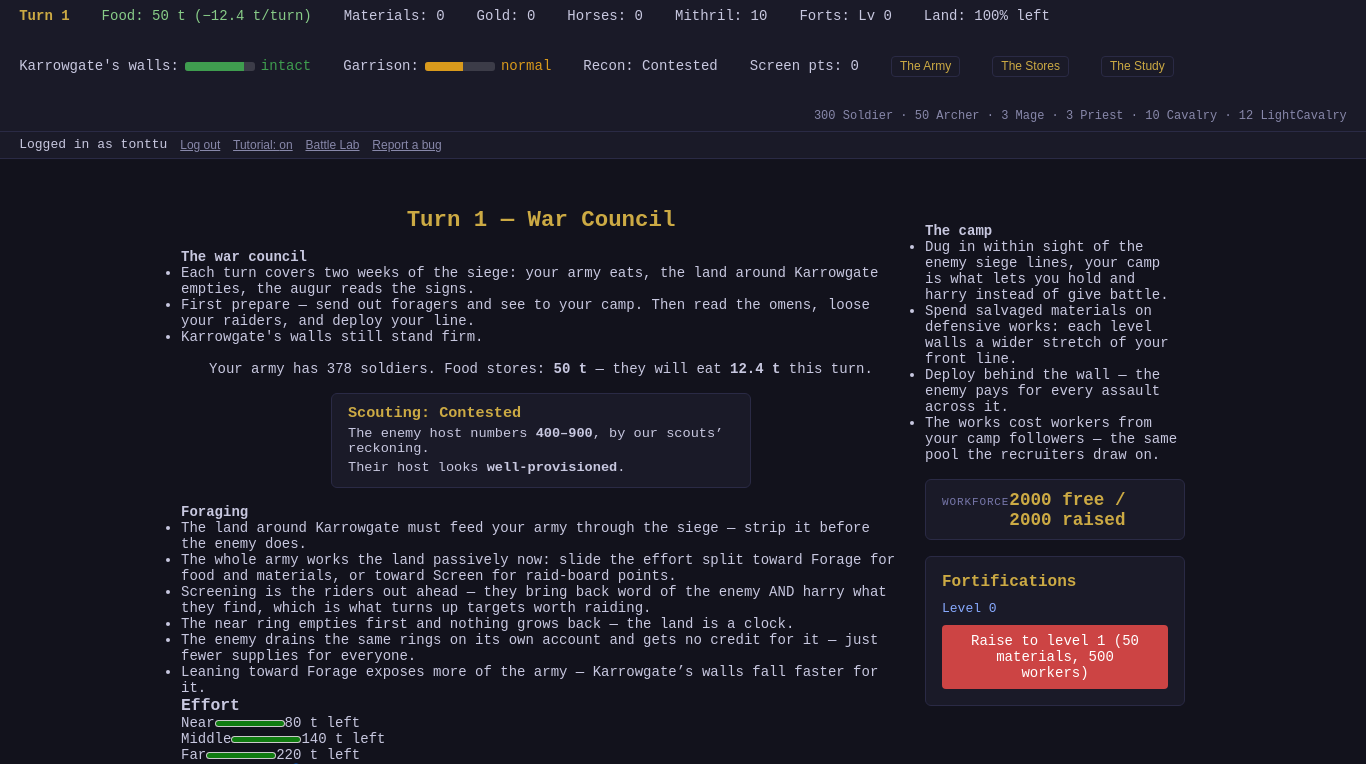
Scenario: the sheet › says so plainly when the catalog knows nothing about the type
Expected: the heading "Turn 1 — War Council" is shown, [407,207,675,233]
Click the button with test id "hud-army" at (926, 66), box [891,56,960,77]
(page scrolled)
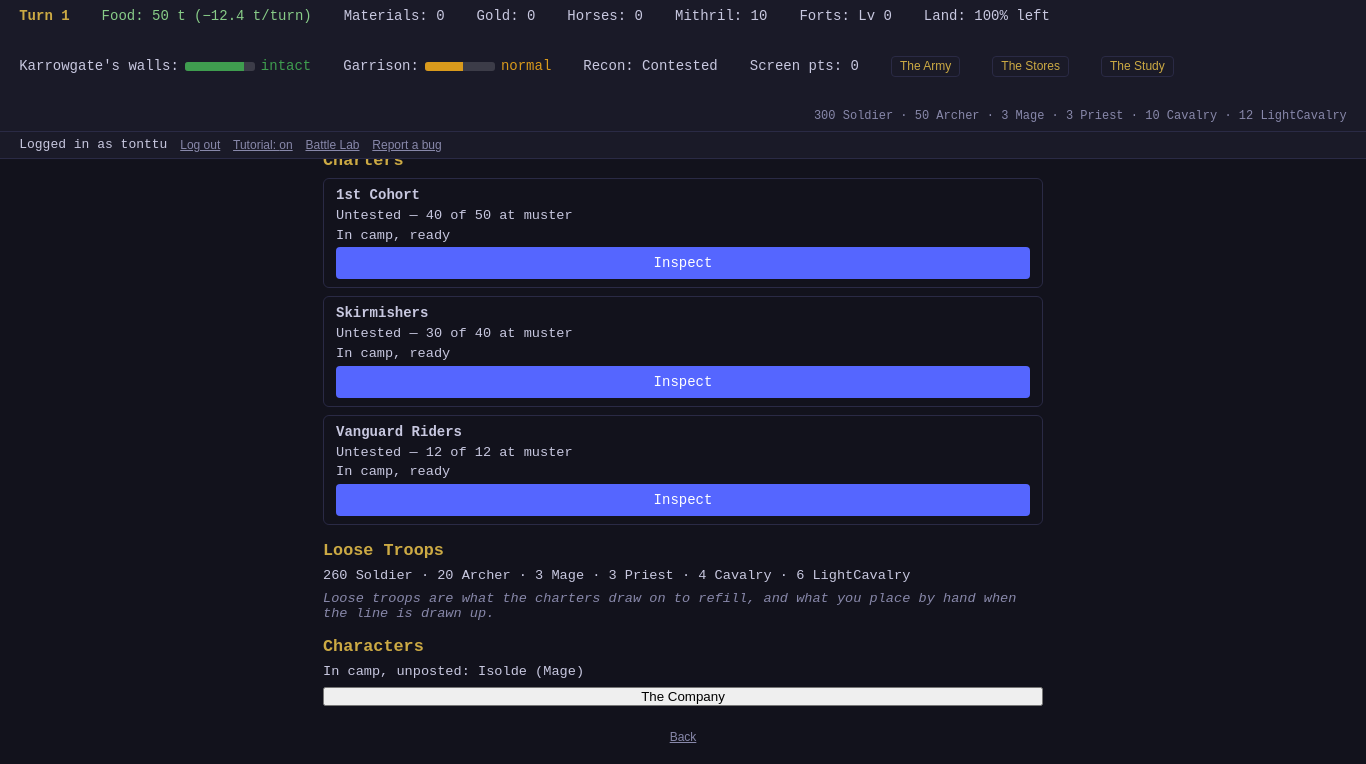
Expected: the element with test id "squad-roll" is shown, [323,159,1043,706]
Click the button with test id "roll-to-company" at (683, 697), box [323,687,1043,706]
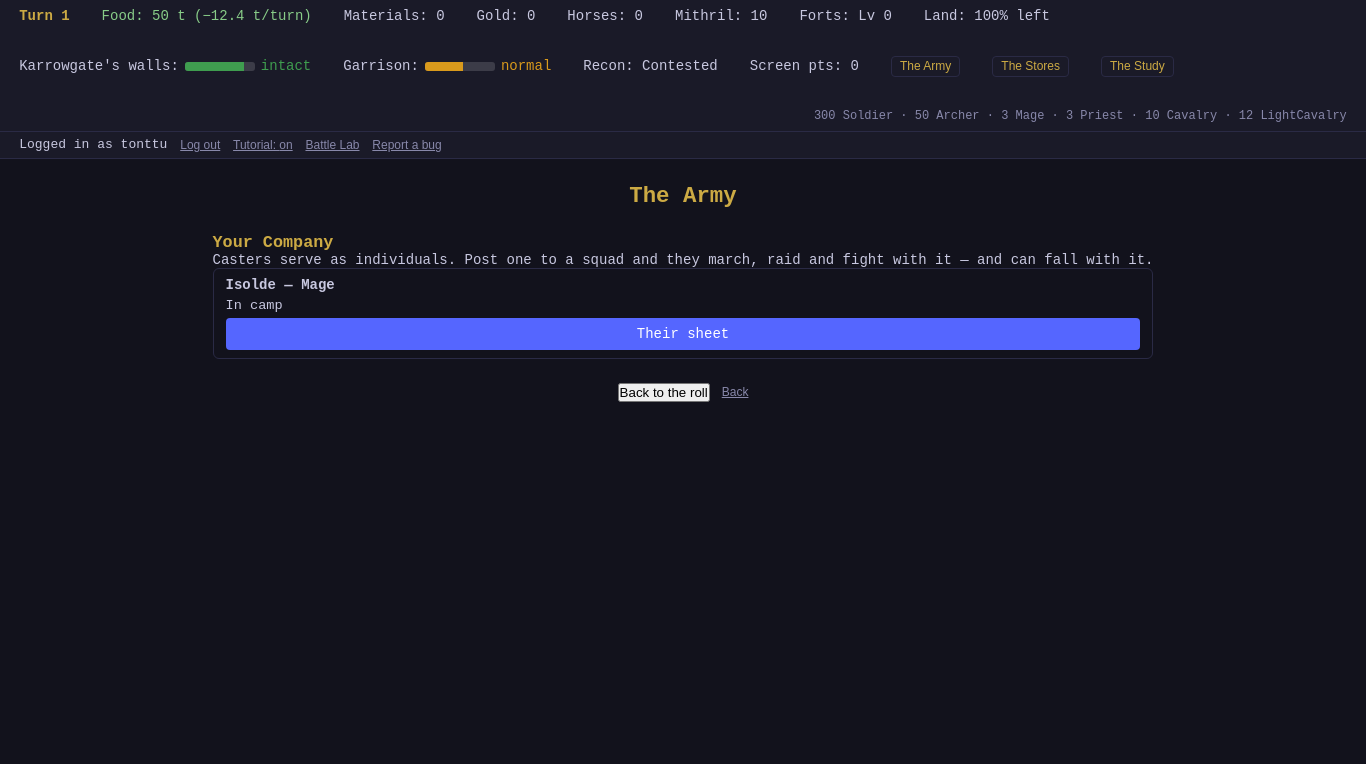
Click the button "Their sheet" at (683, 334), box [226,318,1140,350]
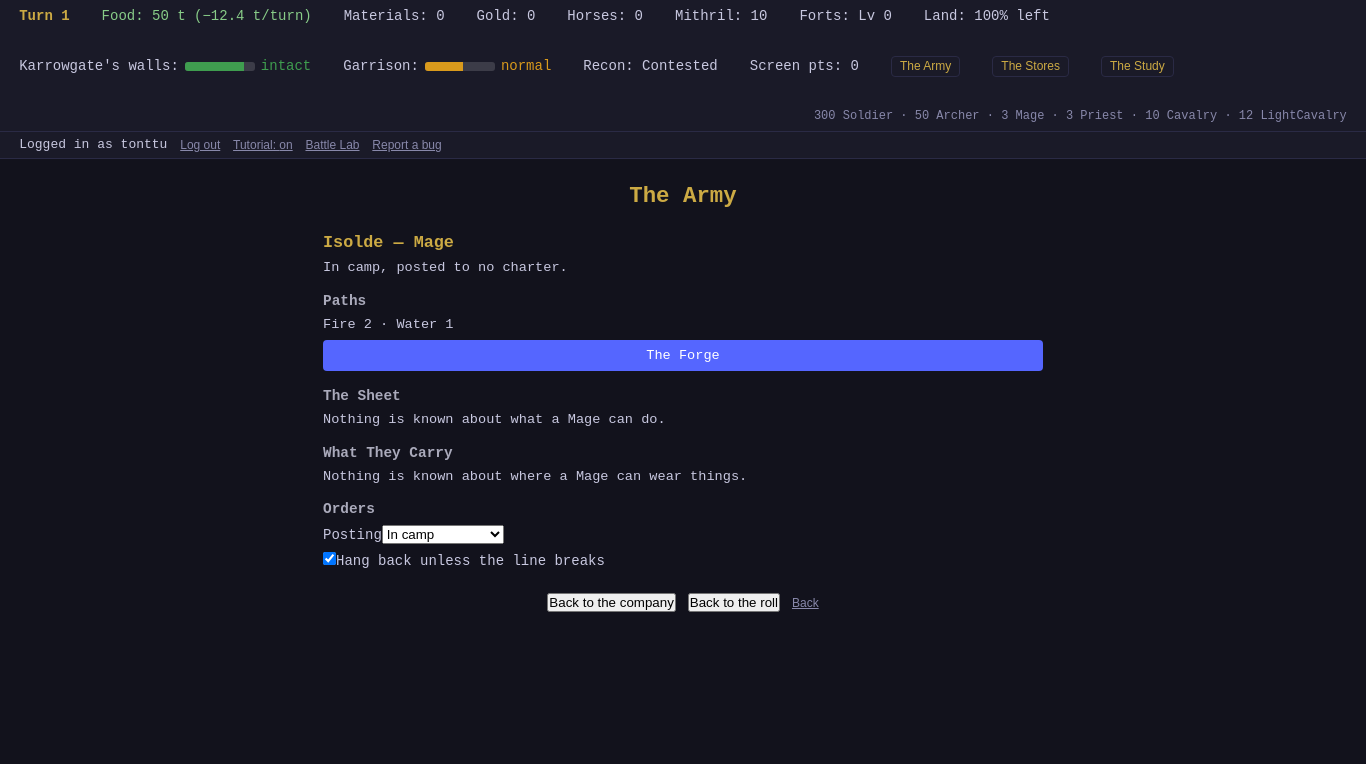
Expected: the element with test id "character-sheet-1" is shown, [323,225,1043,569]
Expected: the text with test id "sheet-unknown-1" shows "Mage", [568,412,600,427]
Expected: the text "Nothing is known about where a Mage can wear things." is shown, [323,469,747,484]
